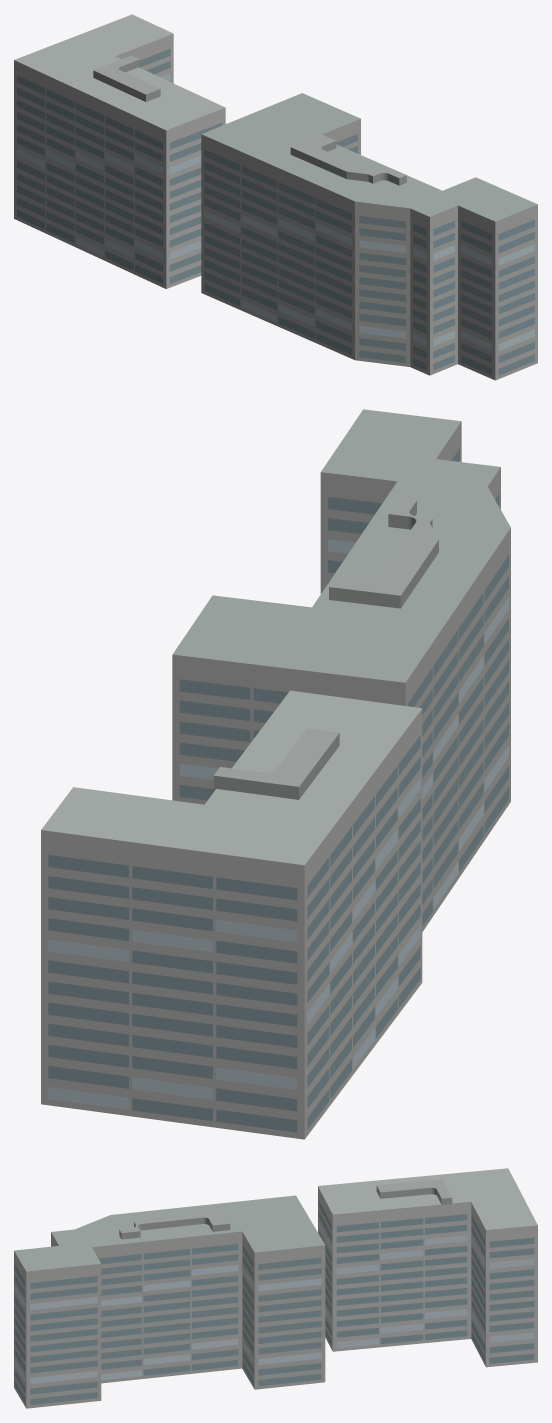
File: apt-a13402202.glb
The picture shows the model from 3 angles, top to bottom: view 1: azimuth 30°, elevation 25°; view 2: azimuth 150°, elevation 25°; view 3: azimuth 270°, elevation 25°; orthographic projection. The views are drawn at different scales.
Visible parts, largest first — view 1: apt-a13402202; view 2: apt-a13402202; view 3: apt-a13402202.
Part boxes in pixels (x1,y1,x2,y2): apt-a13402202: [14, 14, 537, 380]; apt-a13402202: [41, 409, 510, 1139]; apt-a13402202: [14, 1168, 537, 1408].
Bounding box in the file's own units: 52.44 × 34 × 112.
